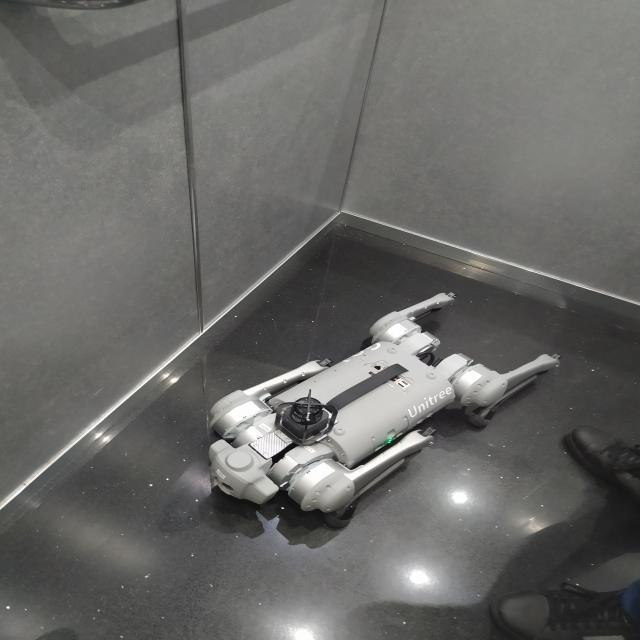unitree-go1-robot: (180, 278, 581, 530)
